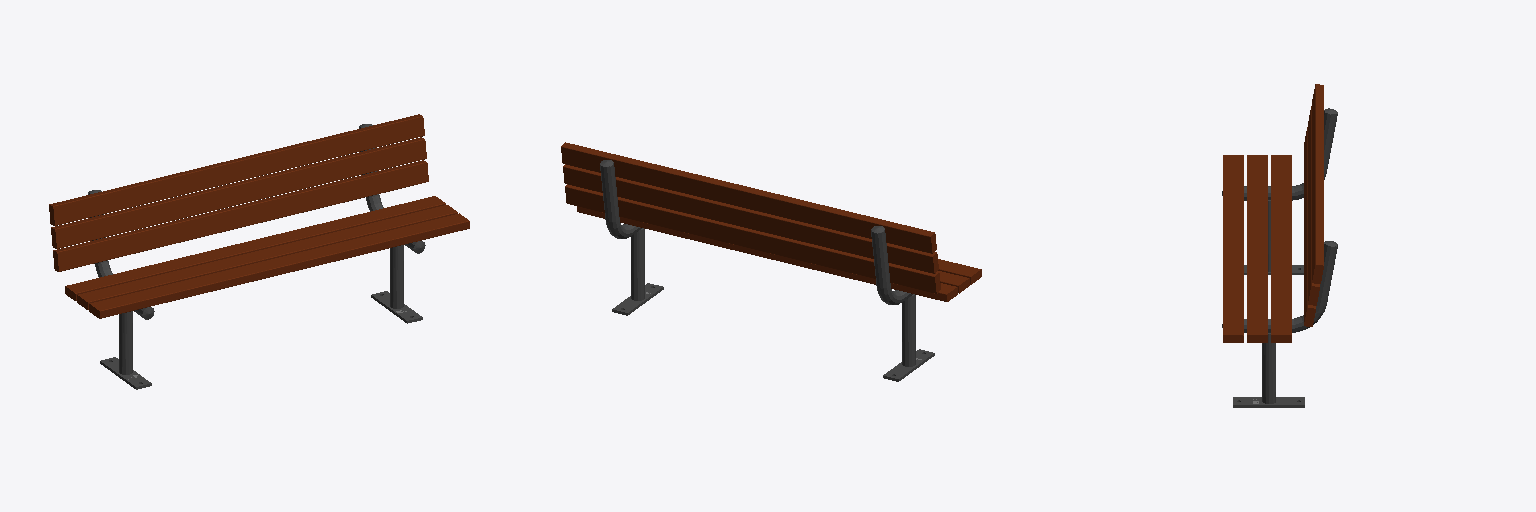
Rendered from bench.obj.
3 renders of one model, left to right at view 1: azimuth 30°, elevation 25°; view 2: azimuth 150°, elevation 25°; view 3: azimuth 270°, elevation 25°, orthographic.
Visible parts, largest first — view 1: Mesh11 _U41_1 SLATS G_79_60_1 Model, Mesh12 _U41_2 SLATS G_79_60_1 Model, Mesh13 _U41_3 SLATS G_79_60_1 Model, Mesh16 _U41_6 SLATS G_79_60_1 Model, Mesh15 _U41_5 SLATS G_79_60_1 Model, Mesh14 _U41_4 SLATS G_79_60_1 Model, Mesh10 _U4_2 SUPPORTS G_79_60_1 Model, Mesh5 _U4_1 SUPPORTS G_79_60_1 Model, Mesh4 _U4_1 SUPPORTS G_79_60_1 Model, Mesh9 _U4_2 SUPPORTS G_79_60_1 Model; view 2: Mesh11 _U41_1 SLATS G_79_60_1 Model, Mesh13 _U41_3 SLATS G_79_60_1 Model, Mesh12 _U41_2 SLATS G_79_60_1 Model, Mesh14 _U41_4 SLATS G_79_60_1 Model, Mesh3 _U4_1 SUPPORTS G_79_60_1 Model, Mesh8 _U4_2 SUPPORTS G_79_60_1 Model, Mesh10 _U4_2 SUPPORTS G_79_60_1 Model, Mesh5 _U4_1 SUPPORTS G_79_60_1 Model, Mesh4 _U4_1 SUPPORTS G_79_60_1 Model, Mesh9 _U4_2 SUPPORTS G_79_60_1 Model, Mesh16 _U41_6 SLATS G_79_60_1 Model; view 3: Mesh14 _U41_4 SLATS G_79_60_1 Model, Mesh15 _U41_5 SLATS G_79_60_1 Model, Mesh16 _U41_6 SLATS G_79_60_1 Model, Mesh11 _U41_1 SLATS G_79_60_1 Model, Mesh8 _U4_2 SUPPORTS G_79_60_1 Model, Mesh12 _U41_2 SLATS G_79_60_1 Model, Mesh13 _U41_3 SLATS G_79_60_1 Model, Mesh10 _U4_2 SUPPORTS G_79_60_1 Model, Mesh3 _U4_1 SUPPORTS G_79_60_1 Model, Mesh9 _U4_2 SUPPORTS G_79_60_1 Model.
Part boxes in pixels (bbox=[...]): Mesh11 _U41_1 SLATS G_79_60_1 Model: bbox=[49, 114, 424, 225]; Mesh12 _U41_2 SLATS G_79_60_1 Model: bbox=[51, 137, 426, 248]; Mesh13 _U41_3 SLATS G_79_60_1 Model: bbox=[53, 160, 428, 271]; Mesh16 _U41_6 SLATS G_79_60_1 Model: bbox=[89, 213, 469, 318]; Mesh15 _U41_5 SLATS G_79_60_1 Model: bbox=[77, 205, 457, 309]; Mesh14 _U41_4 SLATS G_79_60_1 Model: bbox=[65, 196, 445, 300]; Mesh10 _U4_2 SUPPORTS G_79_60_1 Model: bbox=[390, 245, 403, 308]; Mesh5 _U4_1 SUPPORTS G_79_60_1 Model: bbox=[119, 311, 132, 374]; Mesh4 _U4_1 SUPPORTS G_79_60_1 Model: bbox=[100, 357, 151, 389]; Mesh9 _U4_2 SUPPORTS G_79_60_1 Model: bbox=[371, 291, 422, 323]; Mesh11 _U41_1 SLATS G_79_60_1 Model: bbox=[561, 142, 936, 253]; Mesh13 _U41_3 SLATS G_79_60_1 Model: bbox=[565, 184, 940, 293]; Mesh12 _U41_2 SLATS G_79_60_1 Model: bbox=[563, 164, 938, 273]; Mesh14 _U41_4 SLATS G_79_60_1 Model: bbox=[577, 206, 957, 301]; Mesh3 _U4_1 SUPPORTS G_79_60_1 Model: bbox=[871, 226, 912, 304]; Mesh8 _U4_2 SUPPORTS G_79_60_1 Model: bbox=[600, 162, 641, 238]; Mesh10 _U4_2 SUPPORTS G_79_60_1 Model: bbox=[631, 228, 644, 300]; Mesh5 _U4_1 SUPPORTS G_79_60_1 Model: bbox=[902, 294, 915, 366]; Mesh4 _U4_1 SUPPORTS G_79_60_1 Model: bbox=[883, 349, 934, 381]; Mesh9 _U4_2 SUPPORTS G_79_60_1 Model: bbox=[612, 283, 663, 315]; Mesh16 _U41_6 SLATS G_79_60_1 Model: bbox=[938, 259, 981, 284]; Mesh14 _U41_4 SLATS G_79_60_1 Model: bbox=[1271, 155, 1291, 342]; Mesh15 _U41_5 SLATS G_79_60_1 Model: bbox=[1247, 155, 1267, 342]; Mesh16 _U41_6 SLATS G_79_60_1 Model: bbox=[1223, 155, 1243, 342]; Mesh11 _U41_1 SLATS G_79_60_1 Model: bbox=[1312, 84, 1323, 283]; Mesh8 _U4_2 SUPPORTS G_79_60_1 Model: bbox=[1244, 242, 1337, 332]; Mesh12 _U41_2 SLATS G_79_60_1 Model: bbox=[1308, 106, 1319, 305]; Mesh13 _U41_3 SLATS G_79_60_1 Model: bbox=[1304, 127, 1315, 326]; Mesh10 _U4_2 SUPPORTS G_79_60_1 Model: bbox=[1262, 333, 1275, 403]; Mesh3 _U4_1 SUPPORTS G_79_60_1 Model: bbox=[1244, 110, 1337, 200]; Mesh9 _U4_2 SUPPORTS G_79_60_1 Model: bbox=[1233, 397, 1304, 407].
Bounding box in the file's own units: 71 × 29.99 × 19.33.